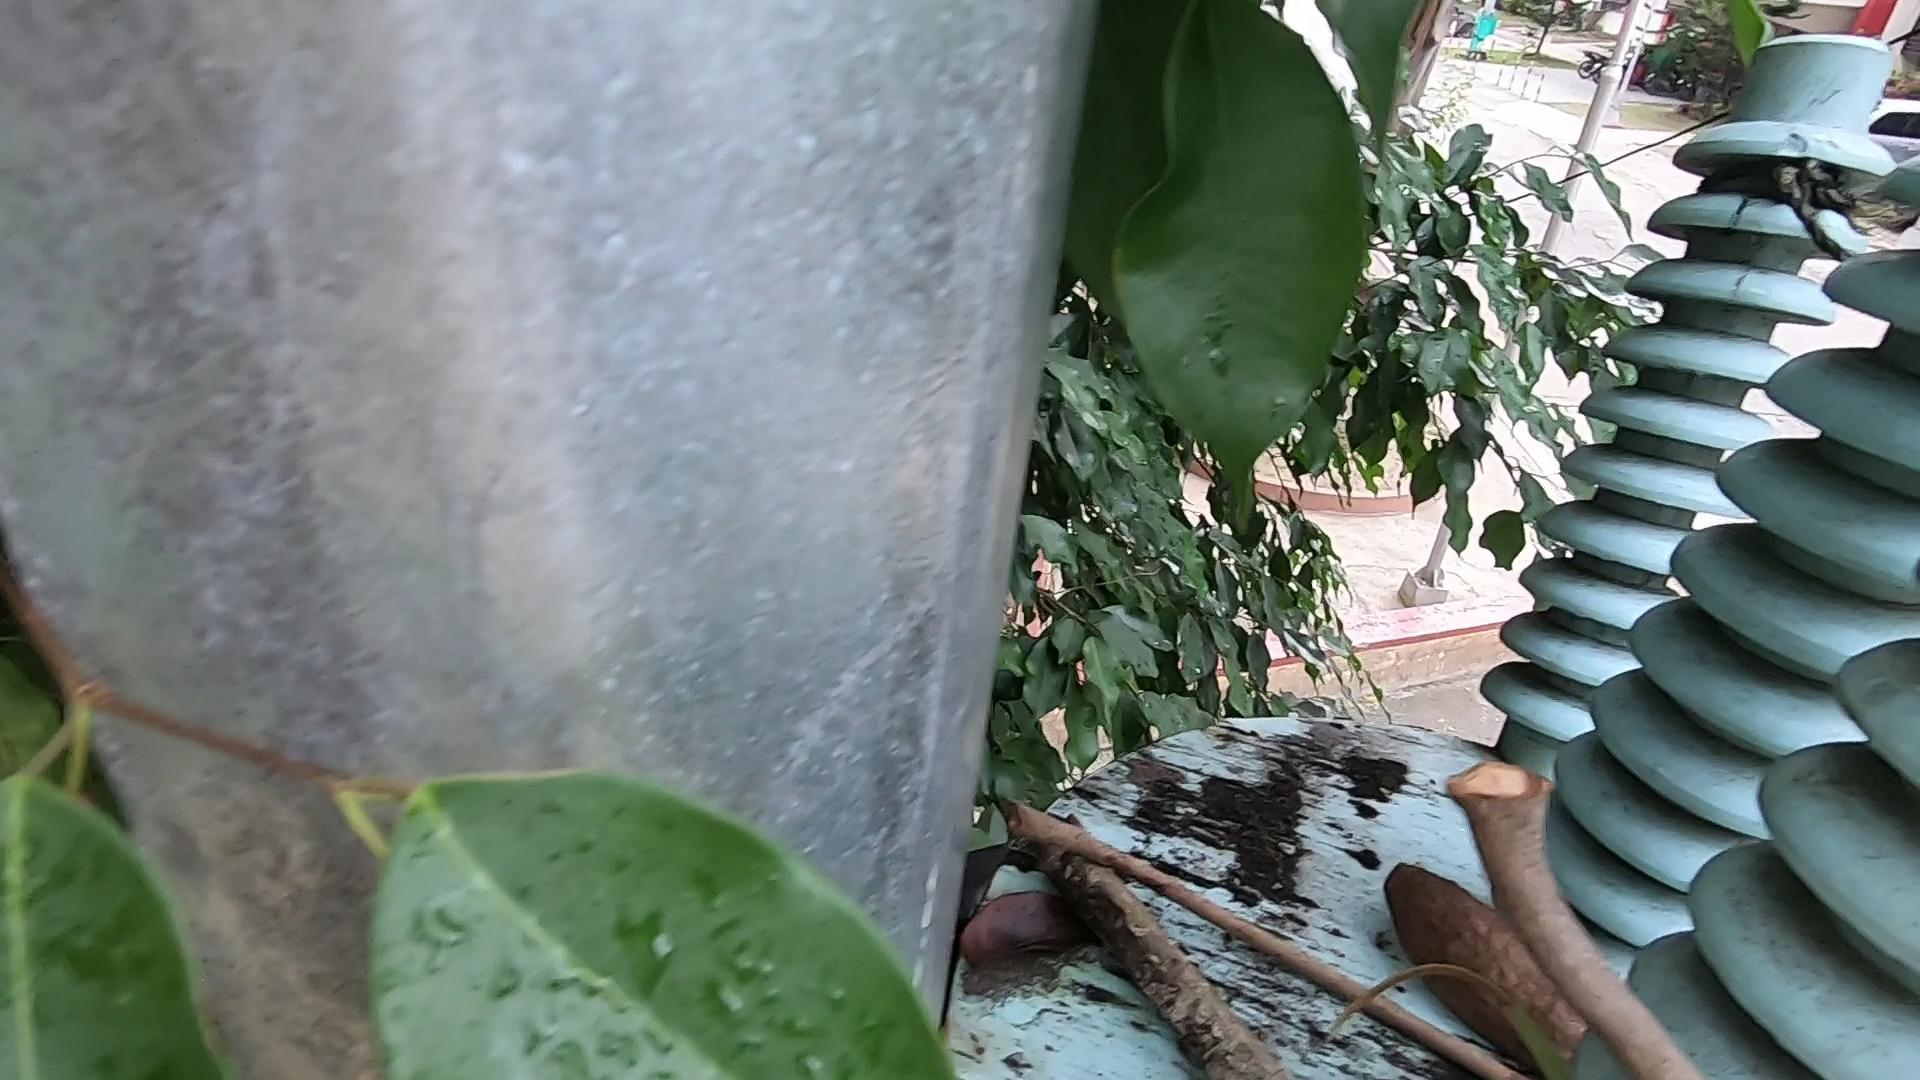branch with leaves: (972, 771, 1218, 1080)
leaf: (964, 878, 1166, 980)
mahogany fruit: (1360, 804, 1597, 1054)
tree branch: (1004, 786, 1486, 1080), (1431, 711, 1634, 1080)
